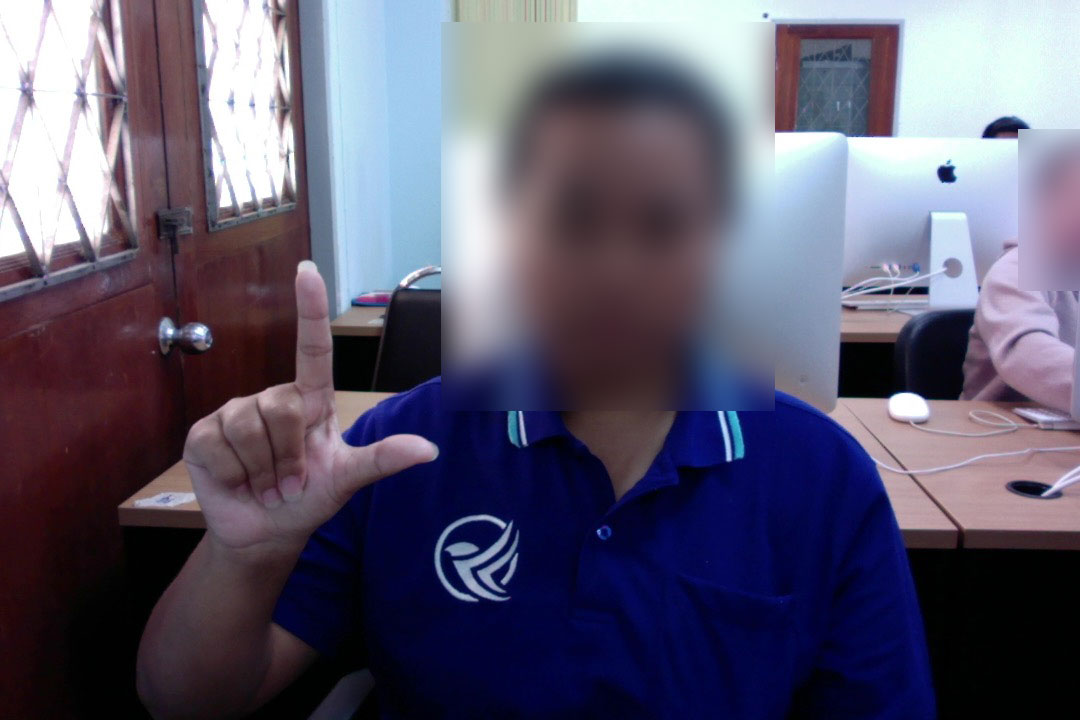lor: (174, 247, 451, 569)
